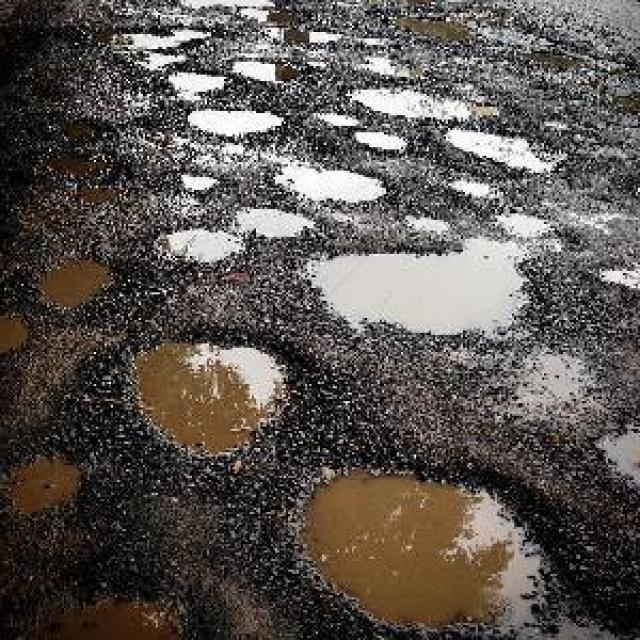Pothole: (293, 458, 573, 635), (298, 240, 548, 345), (129, 330, 298, 456), (23, 562, 234, 639), (3, 434, 104, 522), (345, 80, 503, 123), (35, 249, 125, 313), (441, 125, 565, 170), (104, 22, 219, 67), (272, 159, 394, 200), (153, 225, 251, 268), (588, 421, 640, 489), (191, 102, 289, 136), (234, 204, 322, 238), (223, 57, 309, 83), (166, 69, 230, 93), (358, 129, 411, 153), (3, 310, 35, 349), (181, 170, 221, 194)
